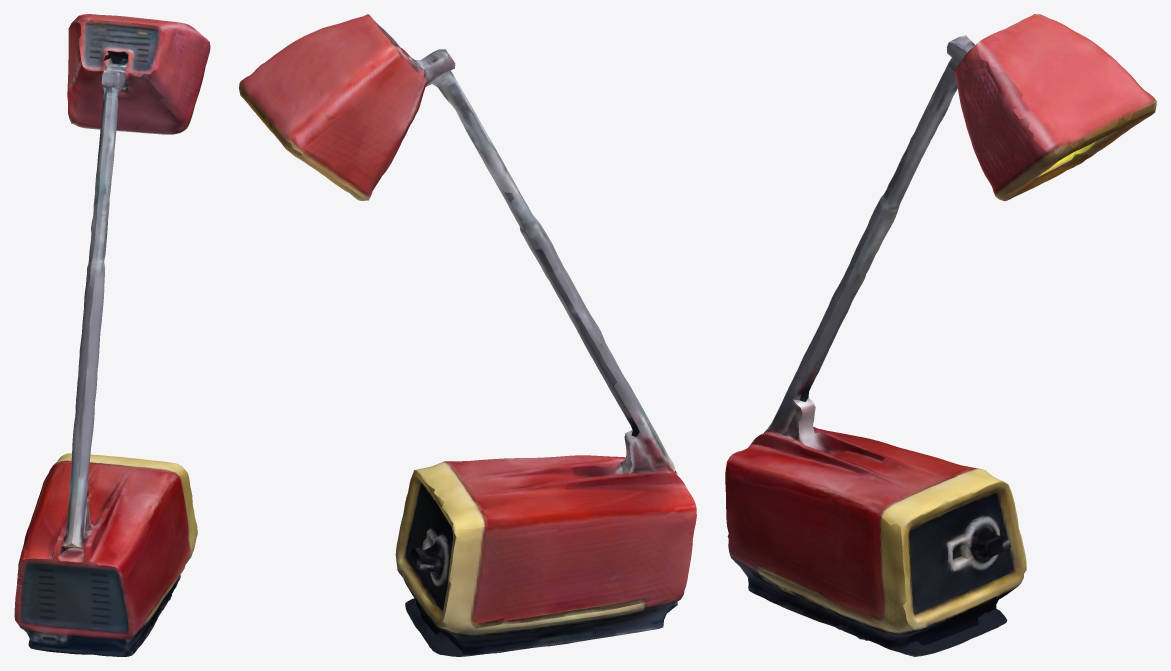
The model's file is lamp.glb.
The picture shows the model from 3 angles, left to right: view 1: azimuth 30°, elevation 25°; view 2: azimuth 150°, elevation 25°; view 3: azimuth 270°, elevation 25°; orthographic projection. The views are drawn at different scales.
Parts seen in each view (by area): view 1: Object; view 2: Object; view 3: Object.
Boxes of the visible parts, box(x1,y1,x2,y2) form: Object: box(14, 14, 210, 656); Object: box(239, 14, 696, 656); Object: box(725, 14, 1156, 656).
Size of the model in its own units: 0.3216 by 0.5595 by 0.3495.
Materials: 1 (1 with a texture image).
